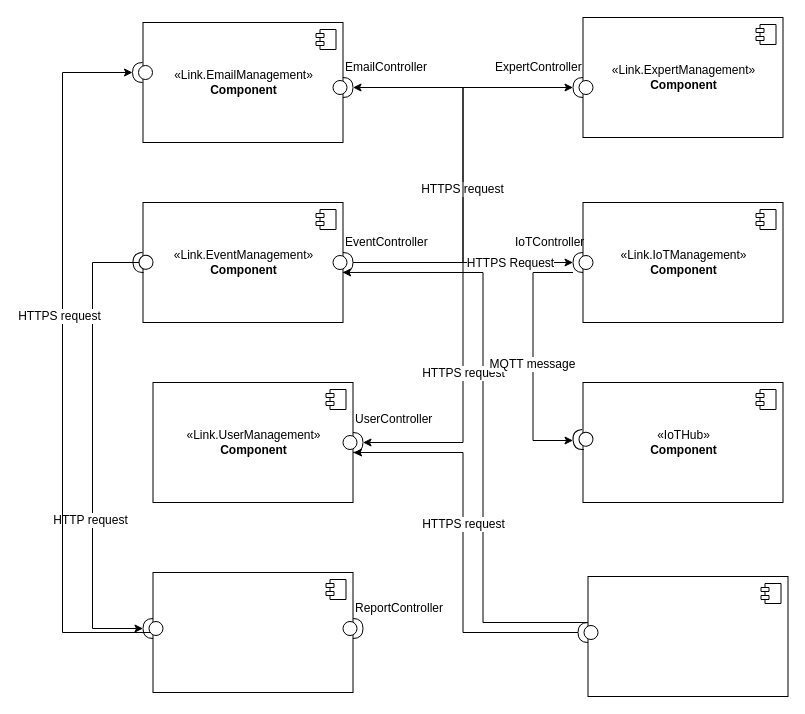
Image size: 805x714. Some labels were removed from this diagram. The shapes that lost their labels are listed below. From the top down, each one's box as (x1, y1, x2, y2) in pixels, then its label:
(152, 572, 353, 692): «Link.ReportManagement» Component
(587, 576, 788, 696): «Link.Angular» Component
